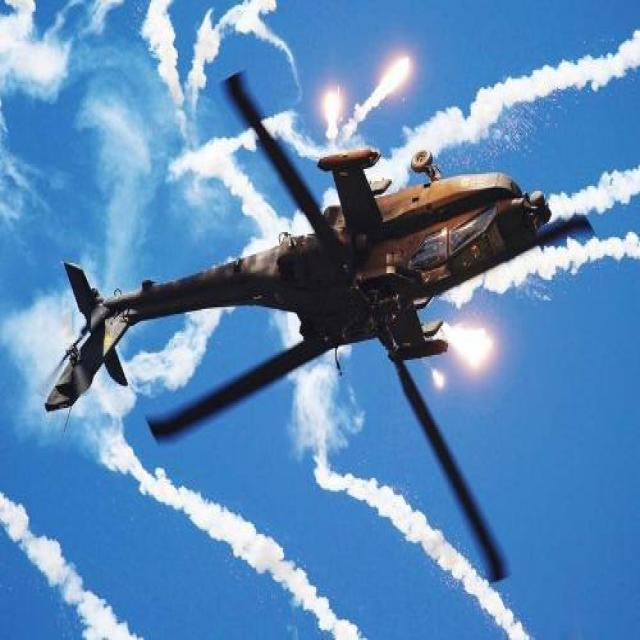MIL_HELO: (26, 63, 567, 584)
